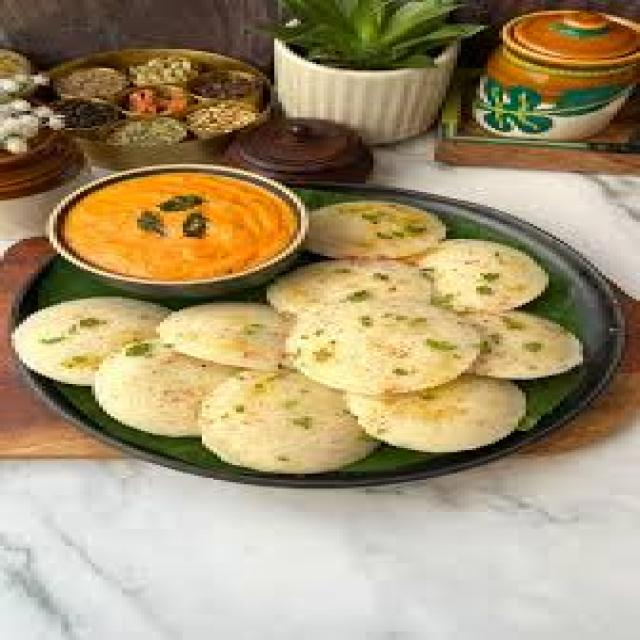IDLI: (290, 290, 476, 390), (198, 371, 373, 471), (91, 343, 236, 435), (347, 375, 522, 450), (19, 297, 168, 384), (419, 239, 545, 311), (267, 260, 430, 311), (156, 303, 282, 367), (465, 311, 579, 375), (305, 203, 442, 256)
